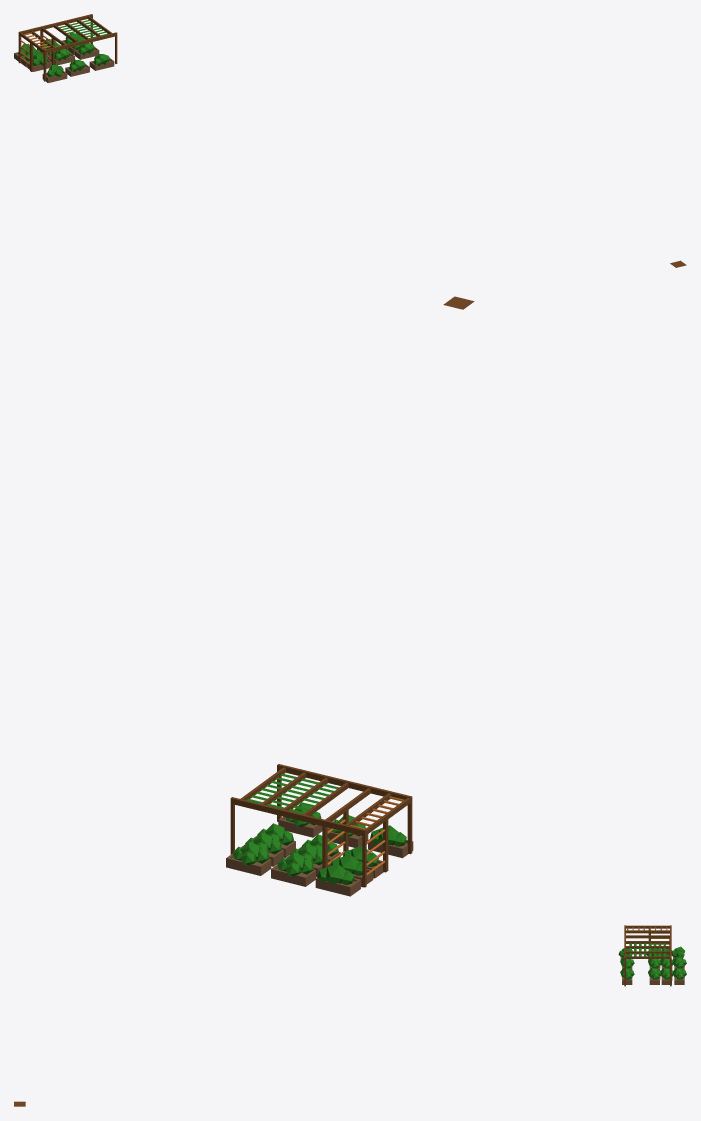
Rendered from solution_2_parking_space.fbx.
The picture shows the model from 3 angles, top to bottom: view 1: azimuth 30°, elevation 25°; view 2: azimuth 150°, elevation 25°; view 3: azimuth 270°, elevation 25°; orthographic projection. The views are drawn at different scales.
Visible parts, largest first — view 1: solution_2_parking_space; view 2: solution_2_parking_space; view 3: solution_2_parking_space.
Part boxes in pixels (x1=…): solution_2_parking_space: x1=14, y1=14, x2=686, y2=267; solution_2_parking_space: x1=226, y1=296, x2=474, y2=896; solution_2_parking_space: x1=14, y1=925, x2=686, y2=1106.
Bounding box in the file's own units: 5651 × 812 × 11593.
